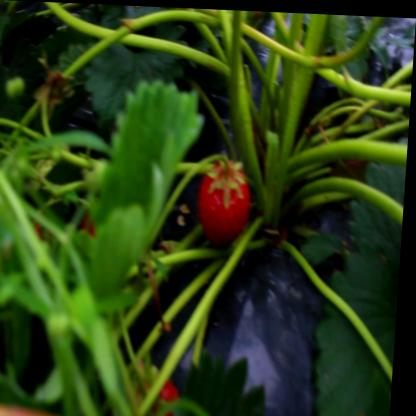ripe: (195, 134, 264, 251)
